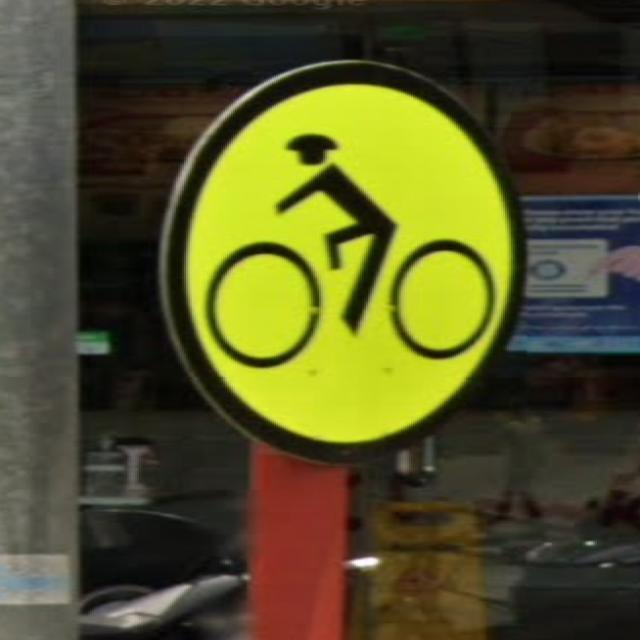bike lane: (159, 60, 523, 463)
